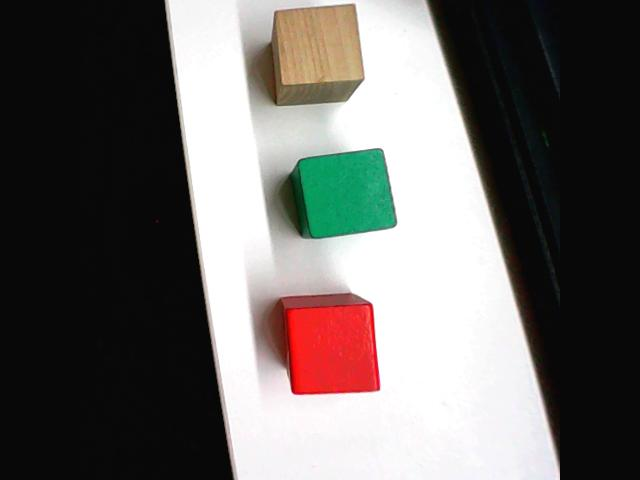green_box: (288, 145, 401, 242)
raw_box: (259, 0, 374, 112)
red_box: (277, 290, 384, 398)
